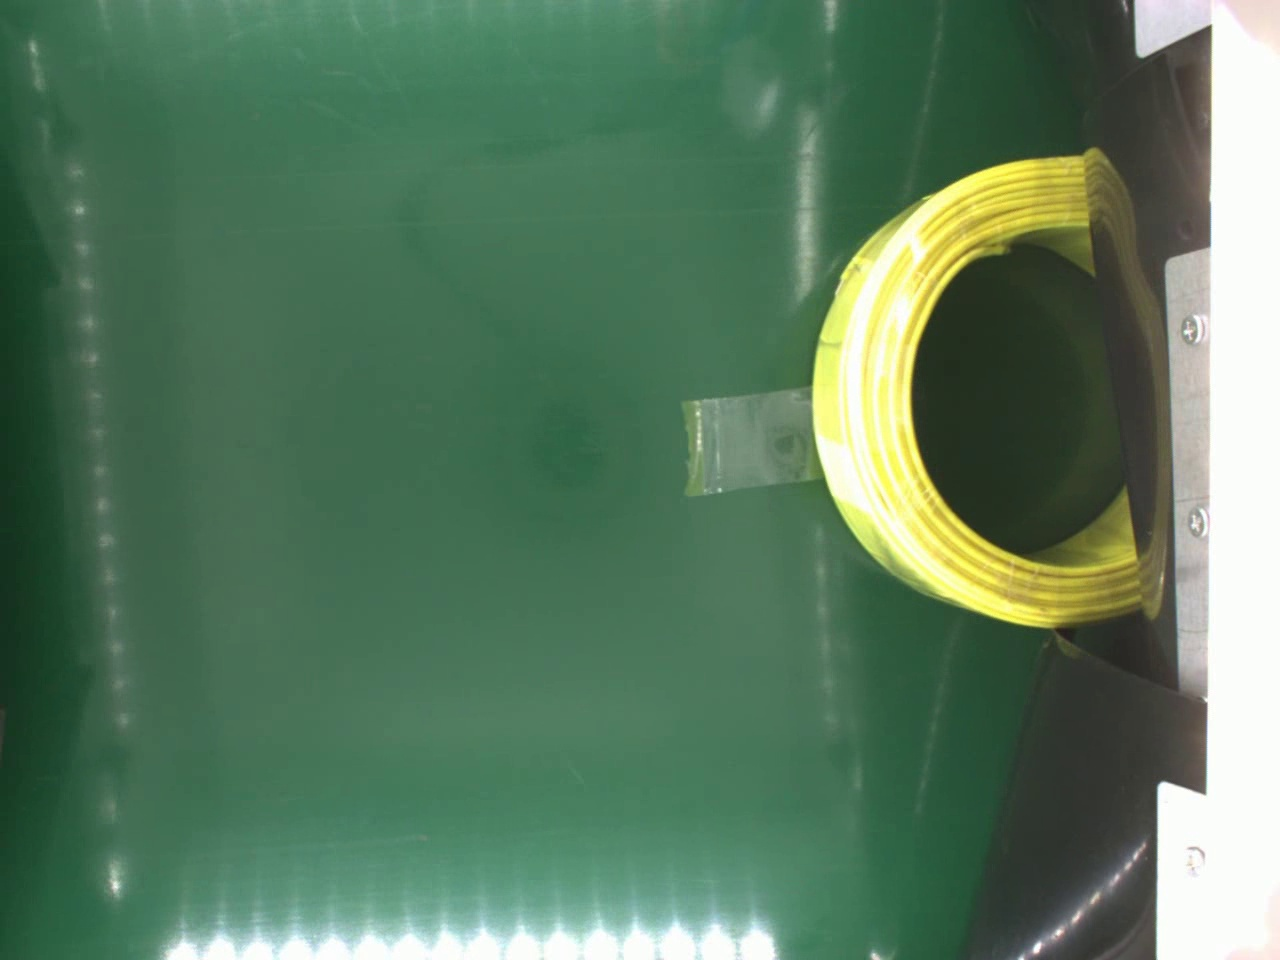yellow: (808, 147, 1149, 634)
